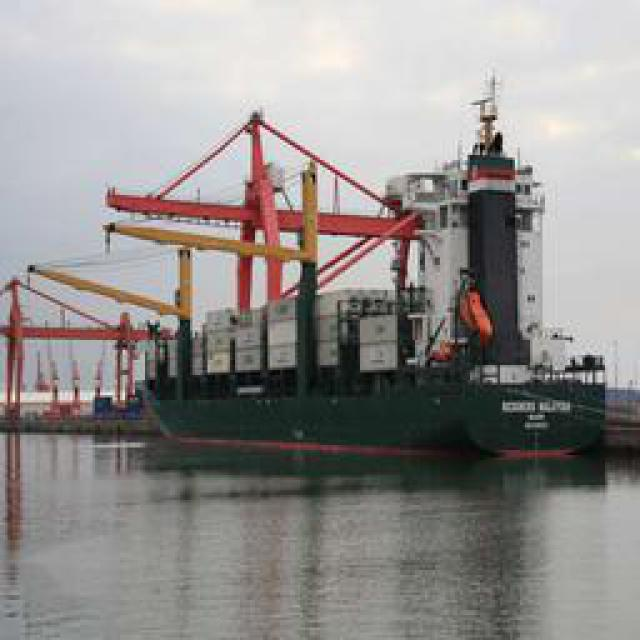Ship: (120, 66, 603, 464)
